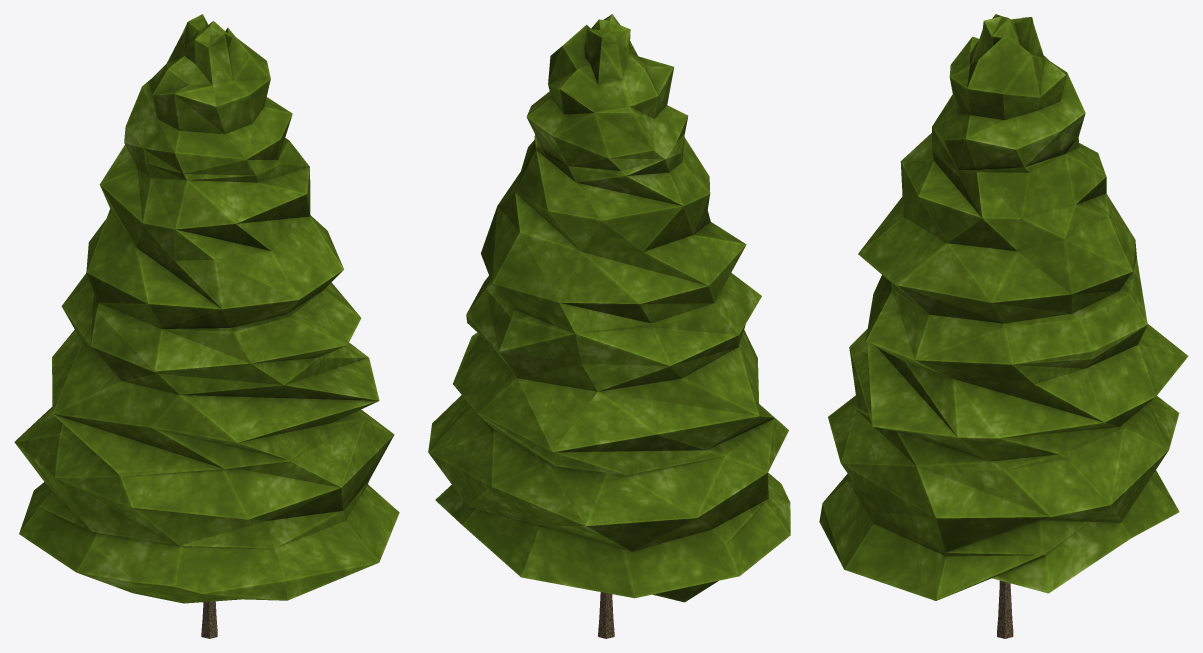
3 views of the same model, side by side, from view 1: azimuth 30°, elevation 25°; view 2: azimuth 150°, elevation 25°; view 3: azimuth 270°, elevation 25° (orthographic).
Parts seen in each view (by area): view 1: LarchTree_mesh; view 2: LarchTree_mesh; view 3: LarchTree_mesh.
Boxes of the visible parts, x1=… form: LarchTree_mesh: x1=14, y1=14, x2=399, y2=638; LarchTree_mesh: x1=428, y1=14, x2=790, y2=638; LarchTree_mesh: x1=819, y1=14, x2=1188, y2=638.
Bounding box in the file's own units: 9.25 × 17.02 × 9.19.
Materials: 1 (1 with a texture image).
